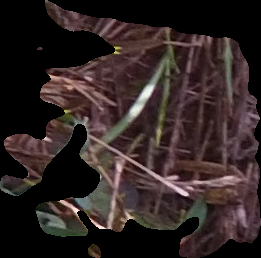soil: (1, 1, 261, 257)
